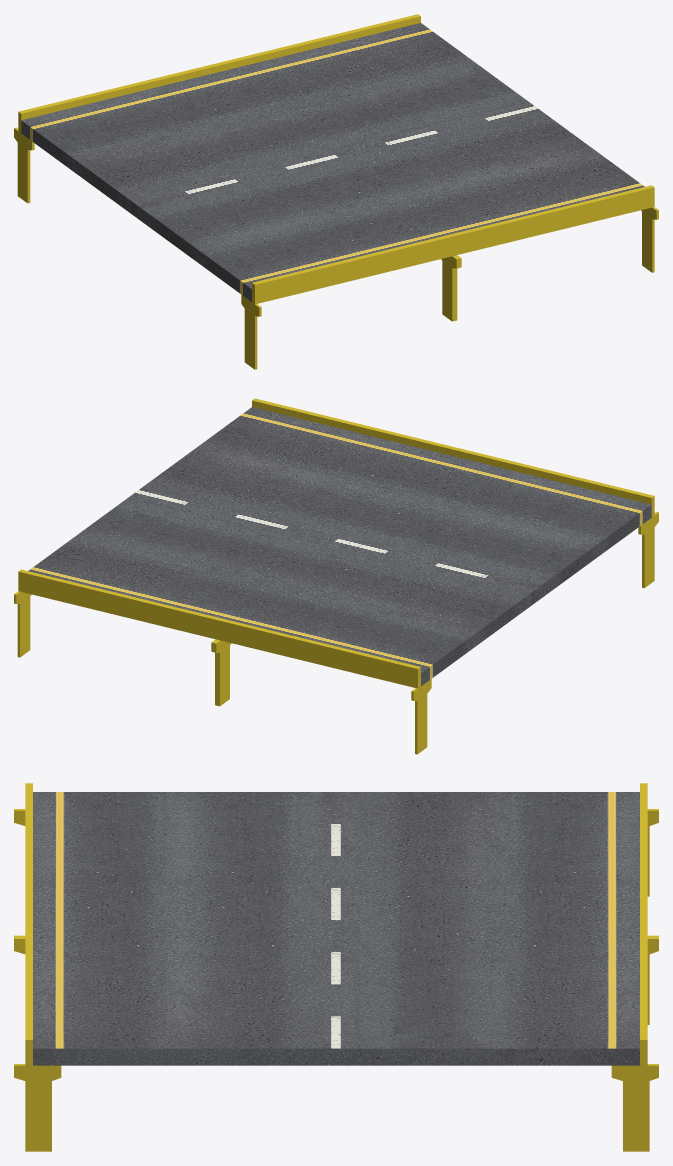
File: Road.fbx
3 views of the same model, one above another, from view 1: azimuth 30°, elevation 25°; view 2: azimuth 150°, elevation 25°; view 3: azimuth 270°, elevation 25° (orthographic). The views are drawn at different scales.
Parts seen in each view (by area): view 1: Bridge road 8x8.001; view 2: Bridge road 8x8.001; view 3: Bridge road 8x8.001.
Part boxes in pixels (x1,y1,x2,y2): Bridge road 8x8.001: (14, 14, 658, 369); Bridge road 8x8.001: (14, 398, 658, 754); Bridge road 8x8.001: (14, 783, 658, 1151).
Size of the model in its own units: 8 by 1.62 by 8.5.
